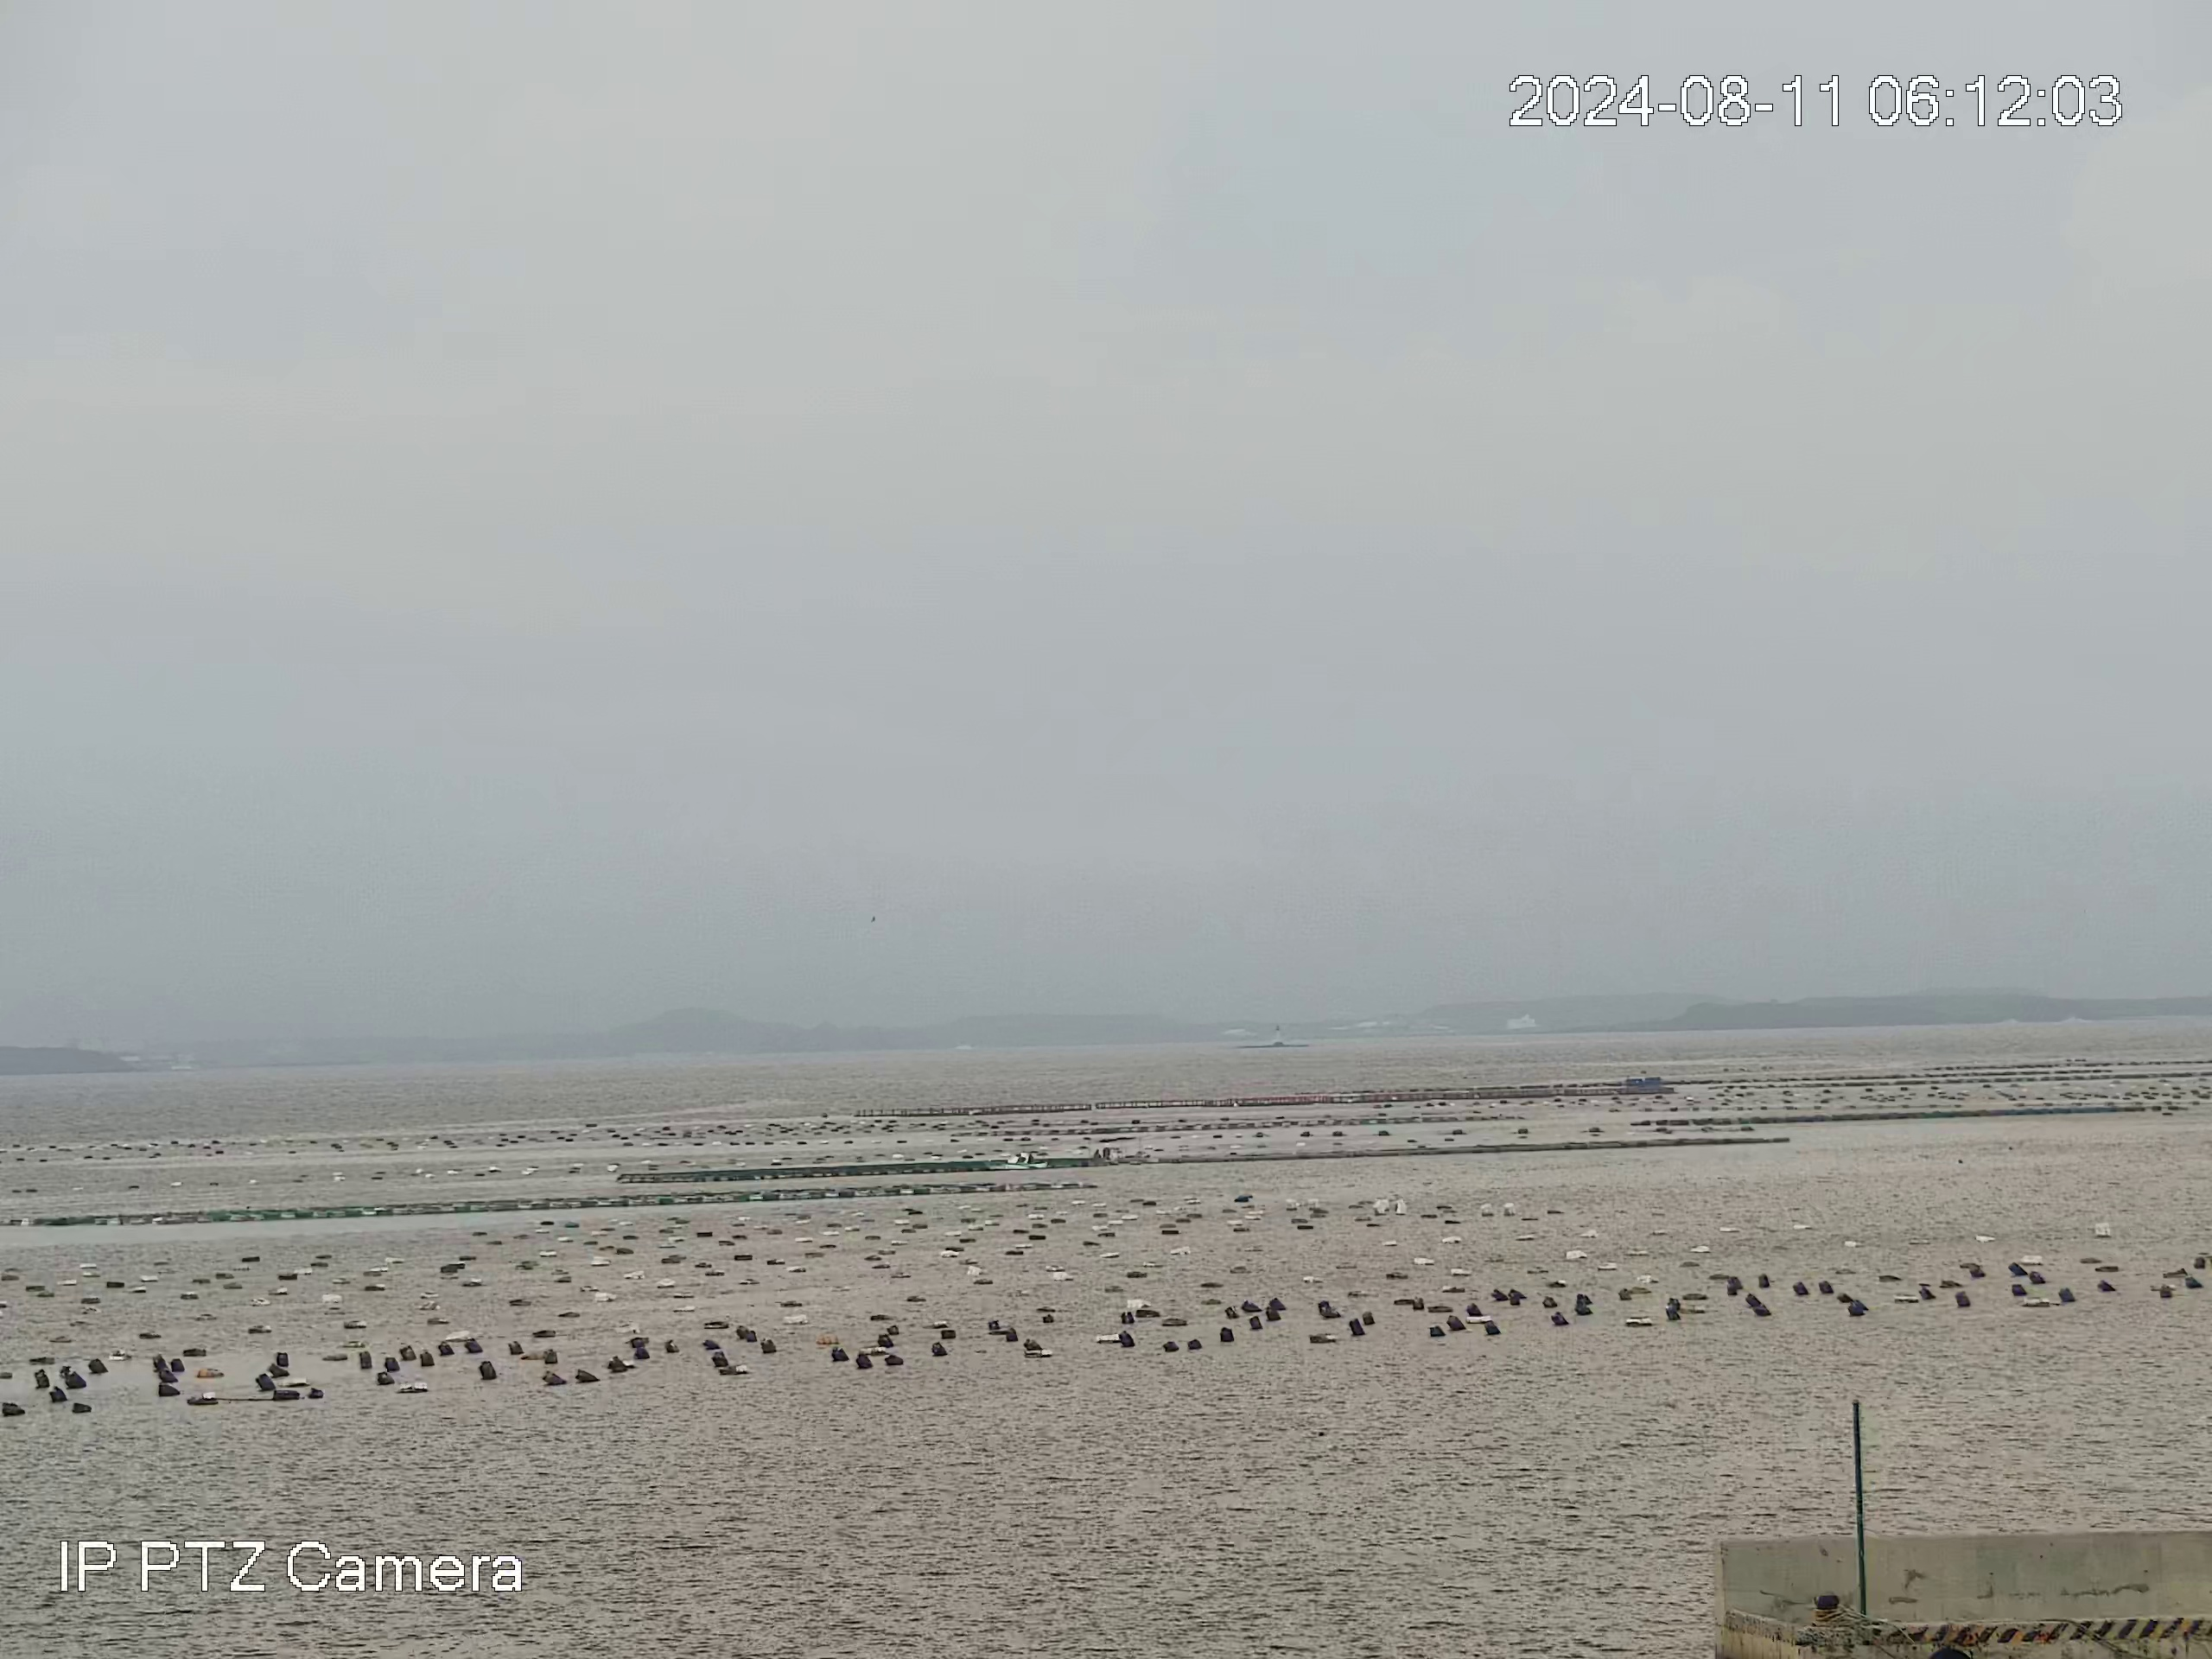boat: (981, 1148, 1050, 1171)
